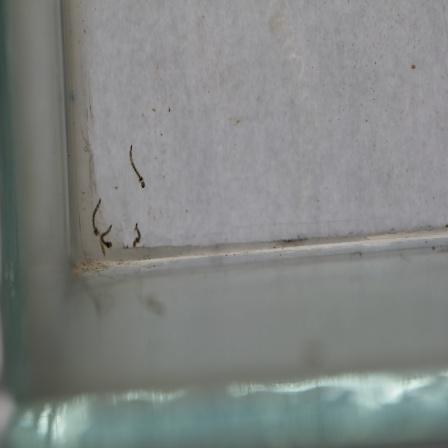Jentik-Nyamuk: (126, 140, 148, 192), (88, 193, 104, 237), (130, 221, 143, 249)
